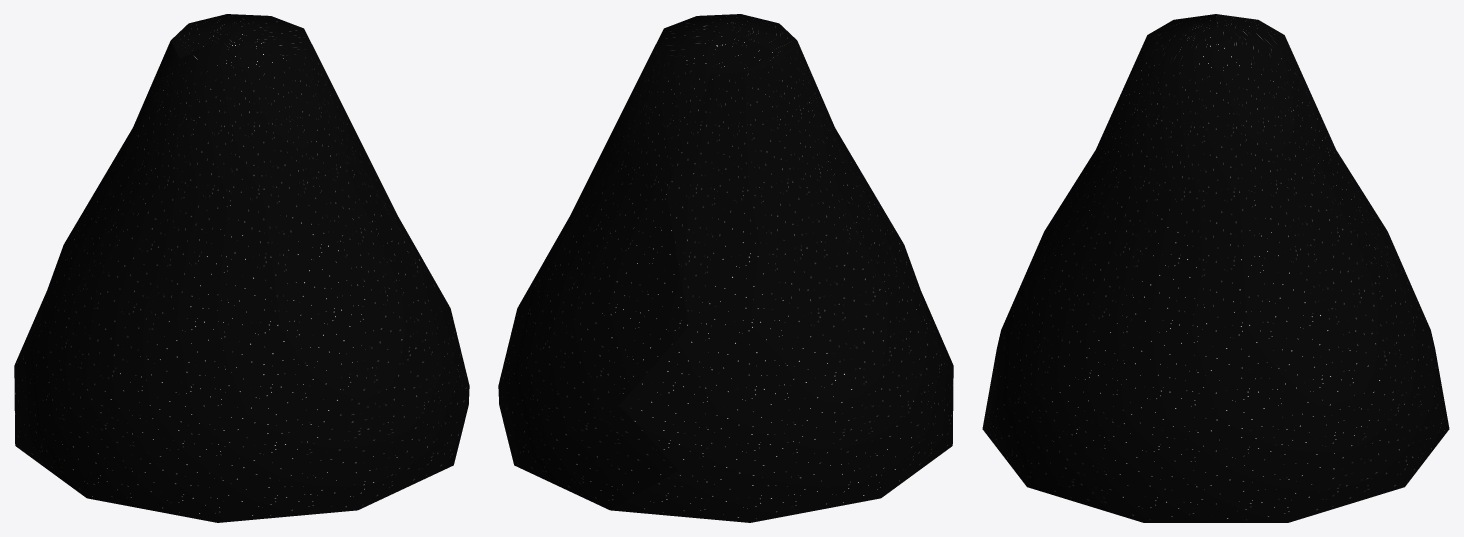
The model's file is snow_sky.dae.
3 renders of one model, left to right at view 1: azimuth 30°, elevation 25°; view 2: azimuth 150°, elevation 25°; view 3: azimuth 270°, elevation 25°, orthographic.
Visible parts, largest first — view 1: n0b0; view 2: n0b0; view 3: n0b0.
Boxes of the visible parts, x1,y1,x2,y2 form: n0b0: (14,14,469,522); n0b0: (498,14,953,522); n0b0: (982,14,1449,522).
Size of the model in its own units: 114576 by 109728 by 116078.
1 material, 1 textured.
